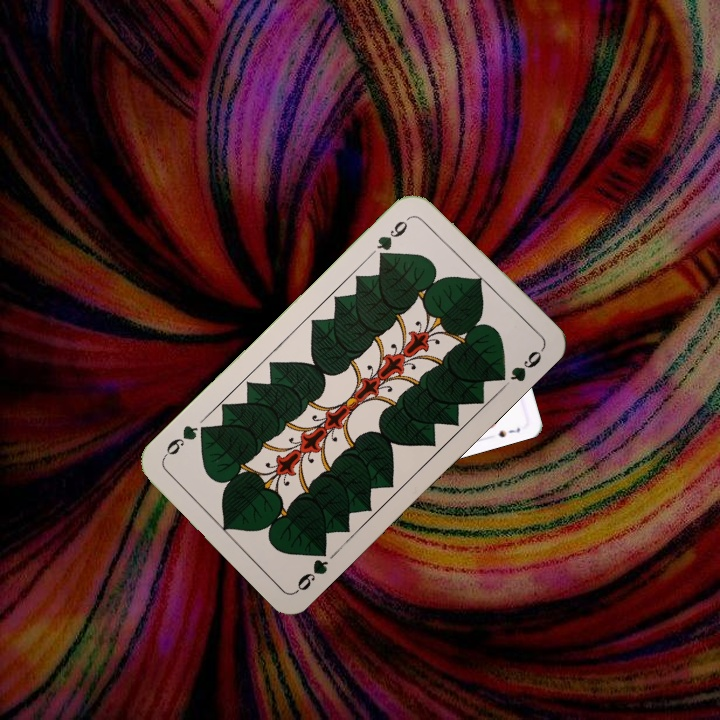G9: (372, 211, 415, 263), (292, 541, 331, 595)
